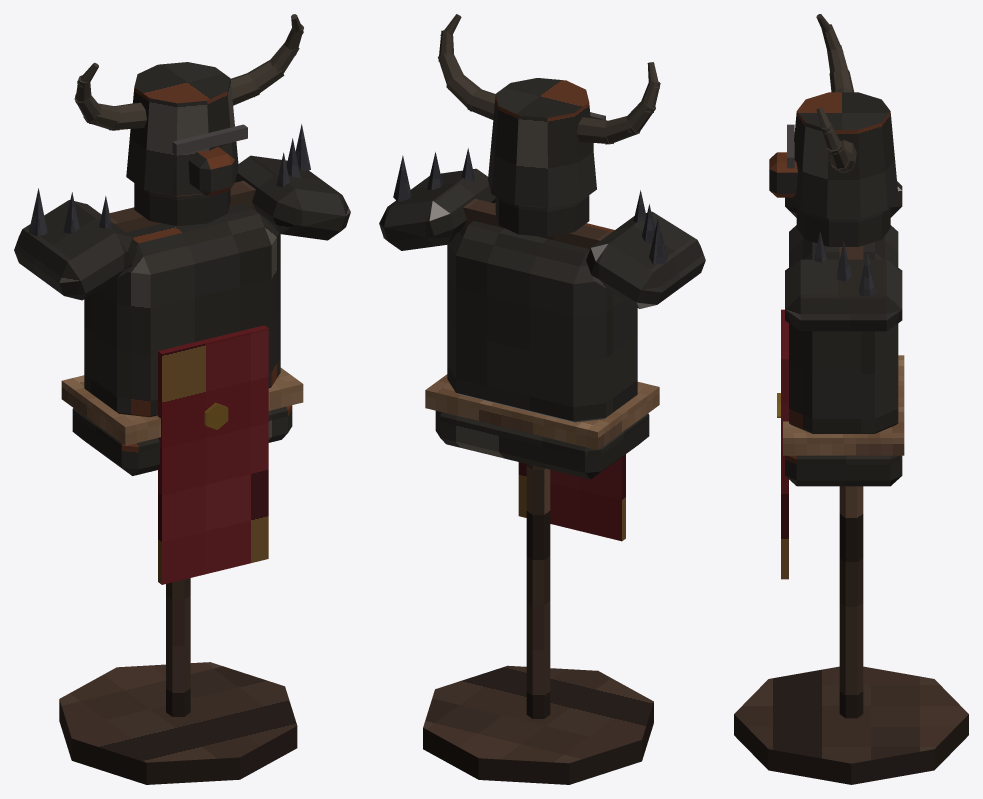
Rendered from guard_armor.obj.
3 renders of one model, left to right at view 1: azimuth 30°, elevation 25°; view 2: azimuth 150°, elevation 25°; view 3: azimuth 270°, elevation 25°, orthographic. The views are drawn at different scales.
Visible parts, largest first — view 1: guard_armor; view 2: guard_armor; view 3: guard_armor.
Part boxes in pixels (x1=…): guard_armor: x1=14, y1=14, x2=350, y2=784; guard_armor: x1=379, y1=14, x2=705, y2=784; guard_armor: x1=734, y1=14, x2=968, y2=784.
Bounding box in the file's own units: 0.8204 × 1.9 × 0.6.
